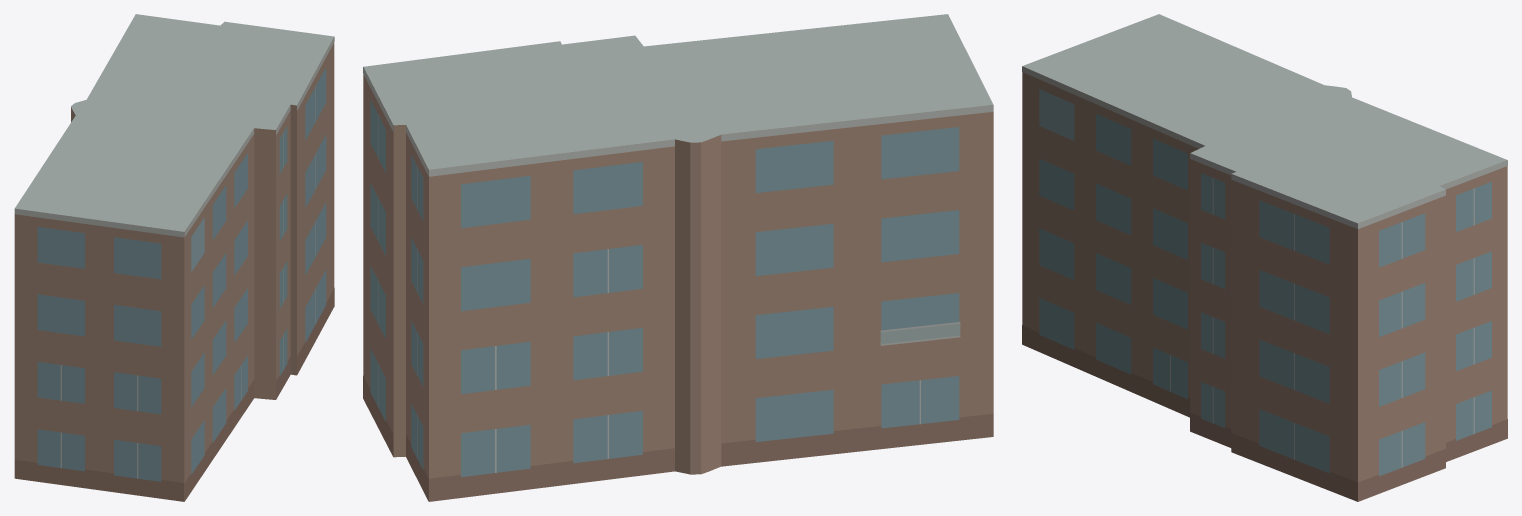
File: survey-upis-33011038.glb
3 views of the same model, side by side, from view 1: azimuth 30°, elevation 25°; view 2: azimuth 150°, elevation 25°; view 3: azimuth 270°, elevation 25° (orthographic). The views are drawn at different scales.
Visible parts, largest first — view 1: survey-upis-33011038.tmp; view 2: survey-upis-33011038.tmp; view 3: survey-upis-33011038.tmp.
Part boxes in pixels (<box>): survey-upis-33011038.tmp: <box>14,14,334,501</box>; survey-upis-33011038.tmp: <box>363,14,993,501</box>; survey-upis-33011038.tmp: <box>1022,14,1507,501</box>.
Size of the model in its own units: 18.88 by 11.7 by 18.5.
